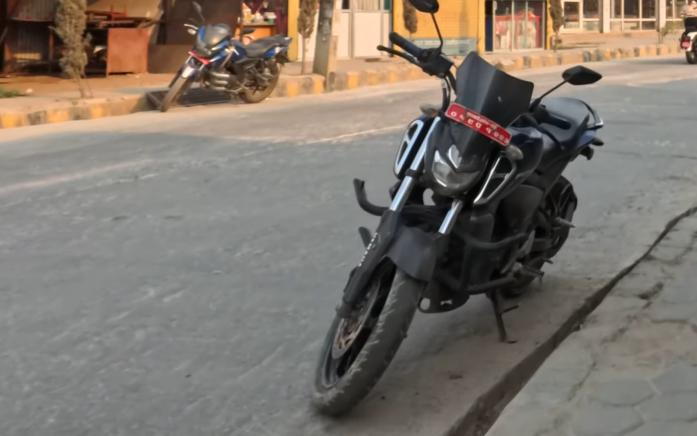bike: (308, 6, 607, 436), (156, 2, 298, 120)
